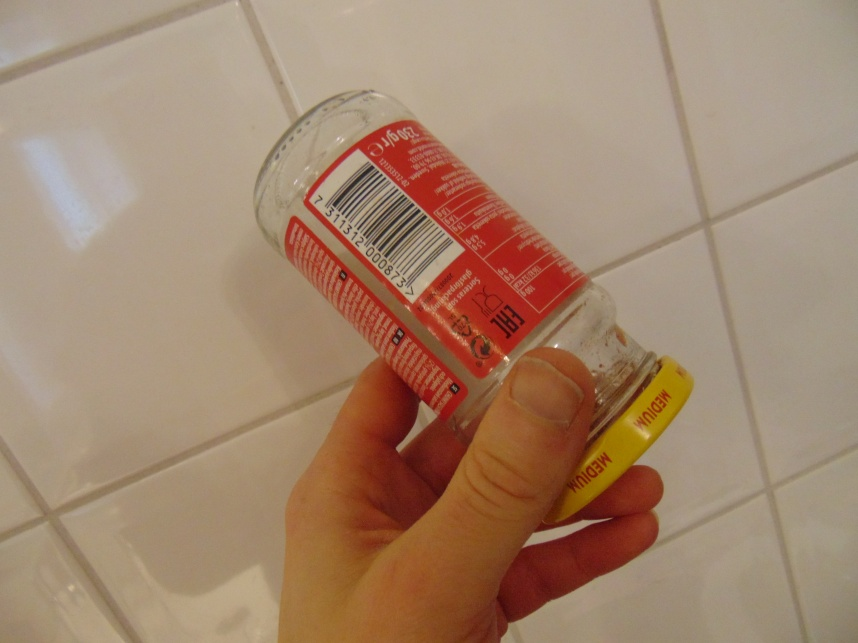glass_bottle: (252, 88, 694, 528)
